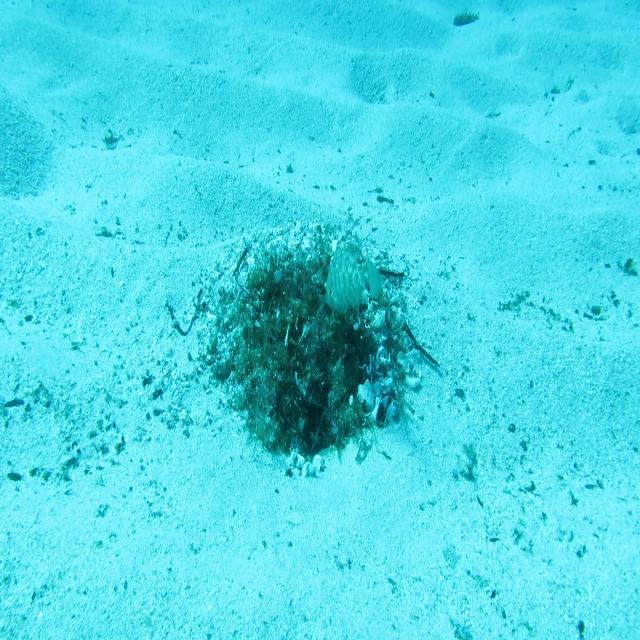NIP_CORE: (322, 239, 384, 315)
core_nest: (278, 278, 324, 313)
nest: (190, 212, 435, 488)
vegetation: (452, 10, 482, 30)
